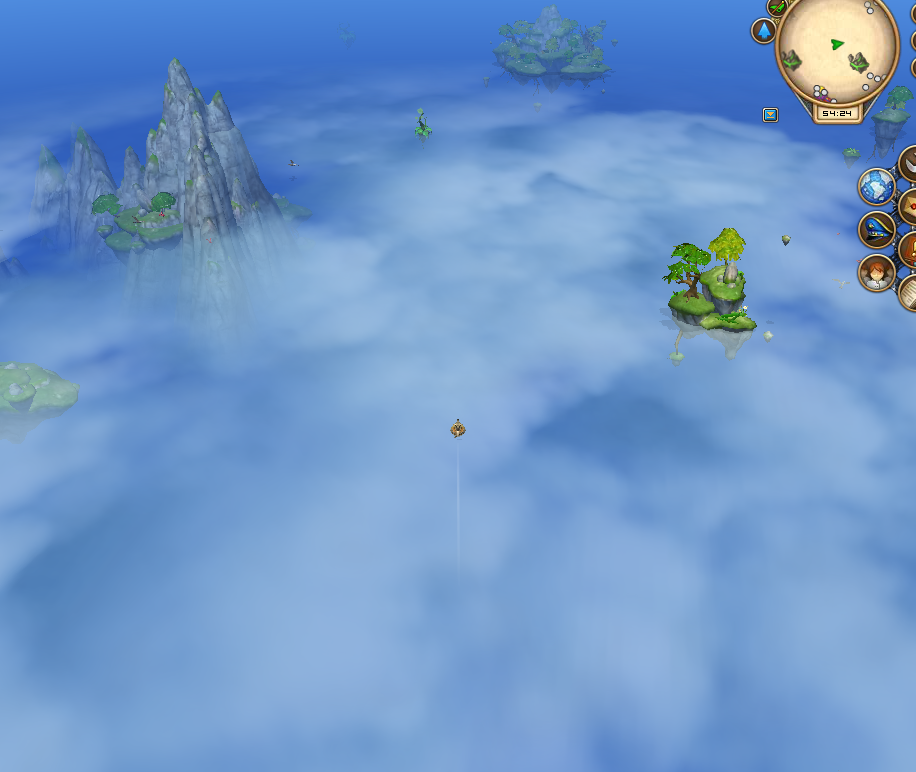dandelion-full: (412, 105, 434, 146), (335, 14, 357, 52)
